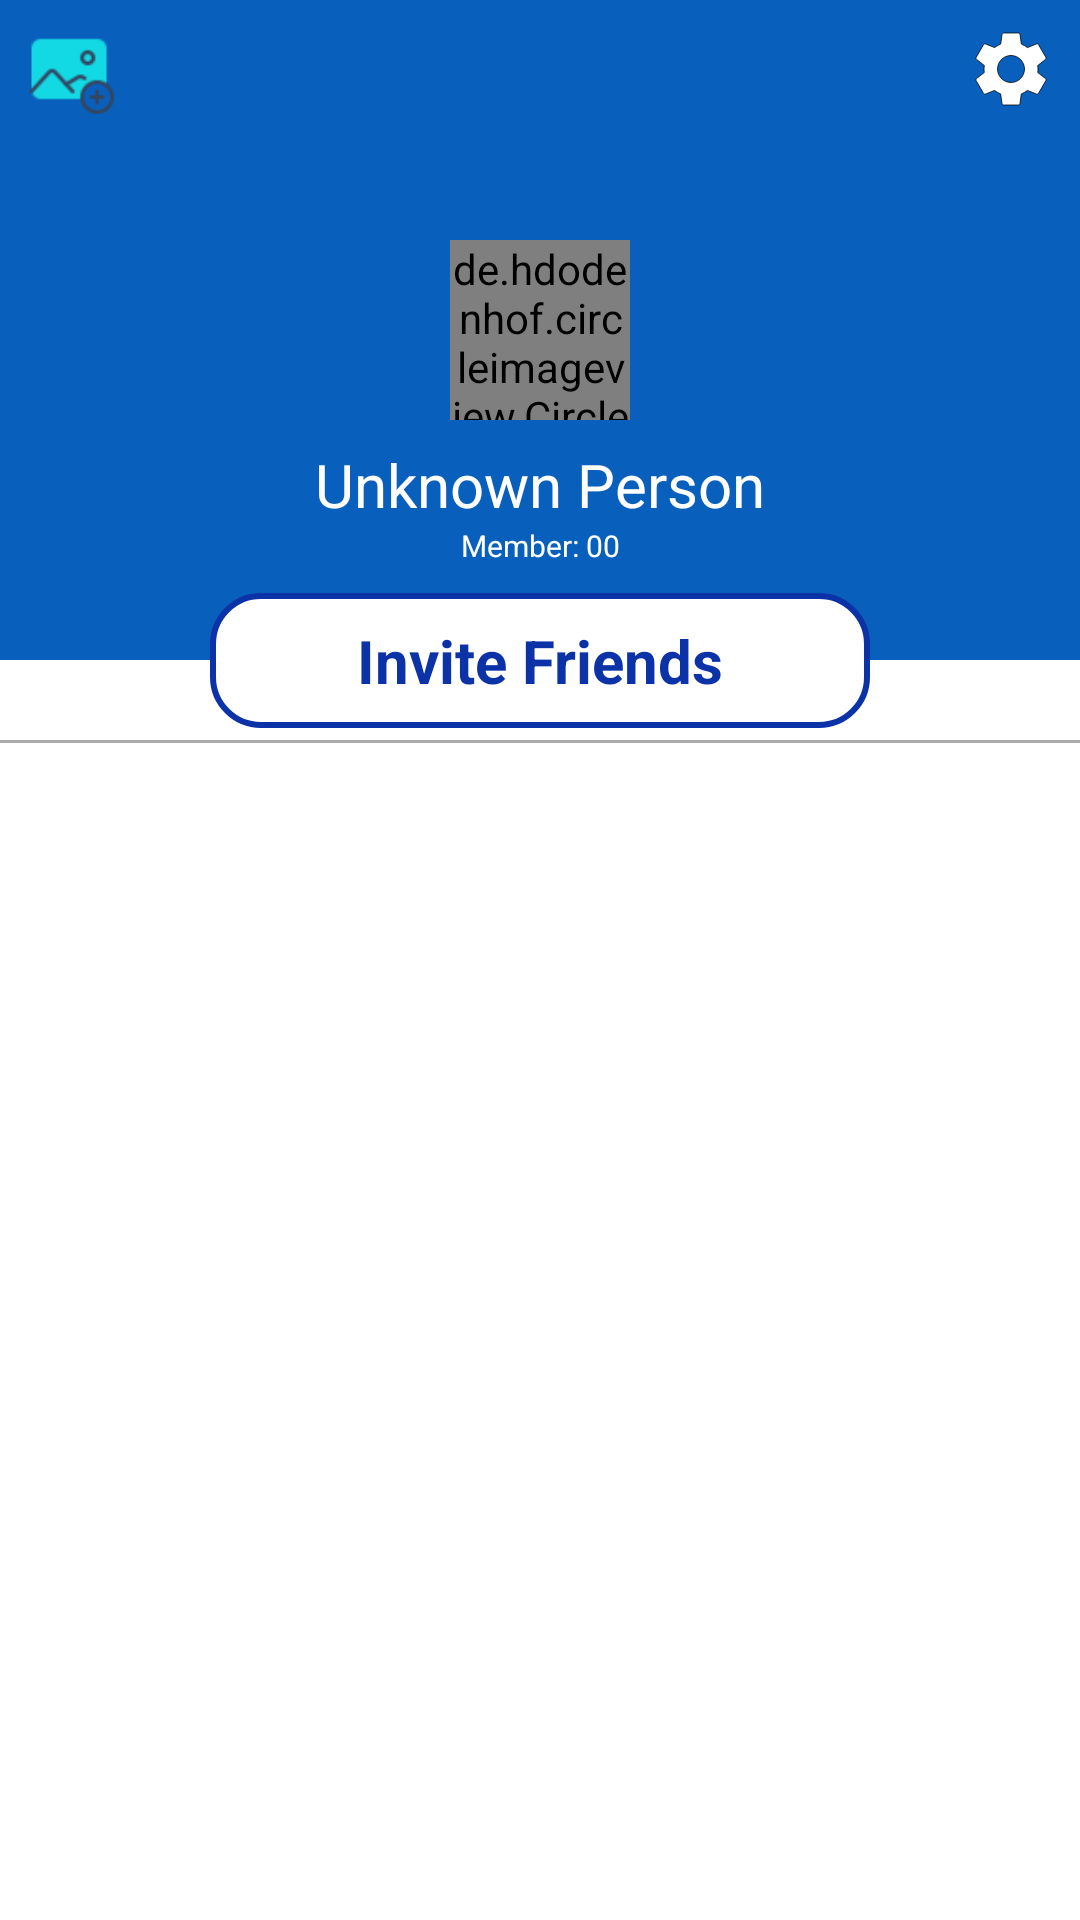

Where icons sit on this 1080×1920 app screen, as (x1,y1,x2,y2):
settings: (975,32,1047,106)
upload: (29,38,114,114)
